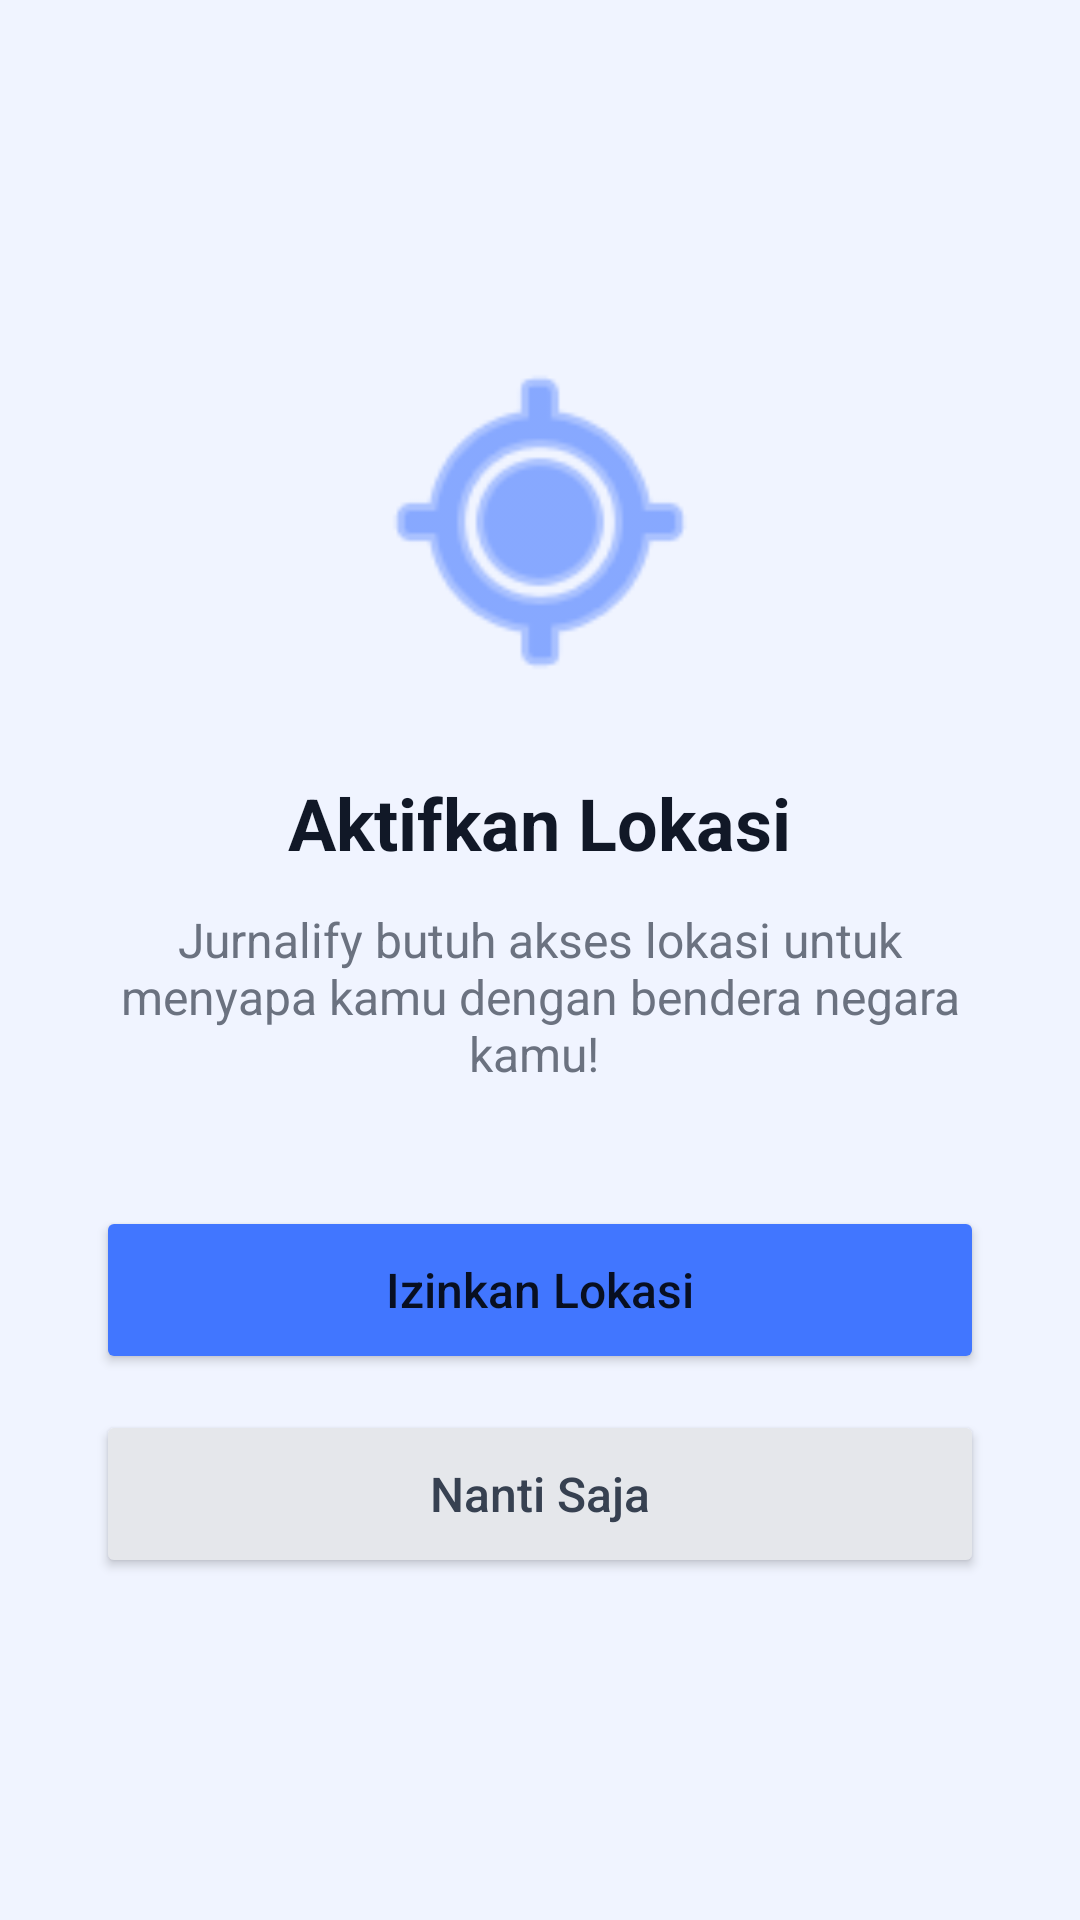

Point at icon controls on the screen. Image size 1080w x 1920h, points as (x=x, y=y).
mylocation: (x=540, y=522)
